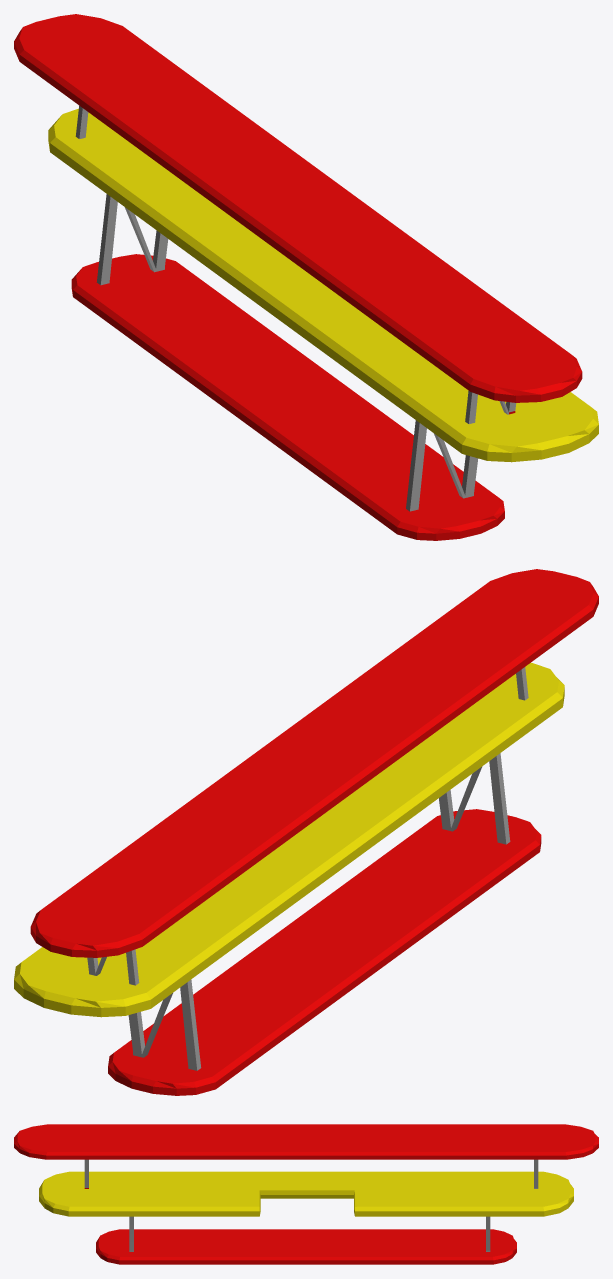
File: Ailes_3.FBX
The picture shows the model from 3 angles, top to bottom: view 1: azimuth 30°, elevation 25°; view 2: azimuth 150°, elevation 25°; view 3: azimuth 270°, elevation 25°; orthographic projection. The views are drawn at different scales.
Visible parts, largest first — view 1: Box059; view 2: Box059; view 3: Box059.
Boxes of the visible parts, <box> form: Box059: <box>14,14,598,540</box>; Box059: <box>14,569,598,1095</box>; Box059: <box>14,1124,598,1264</box>.
Bounding box in the file's own units: 46.25 × 56.01 × 260.
